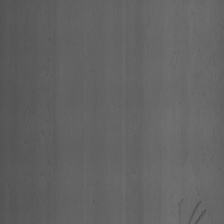water_spot: (176, 188, 208, 224)
